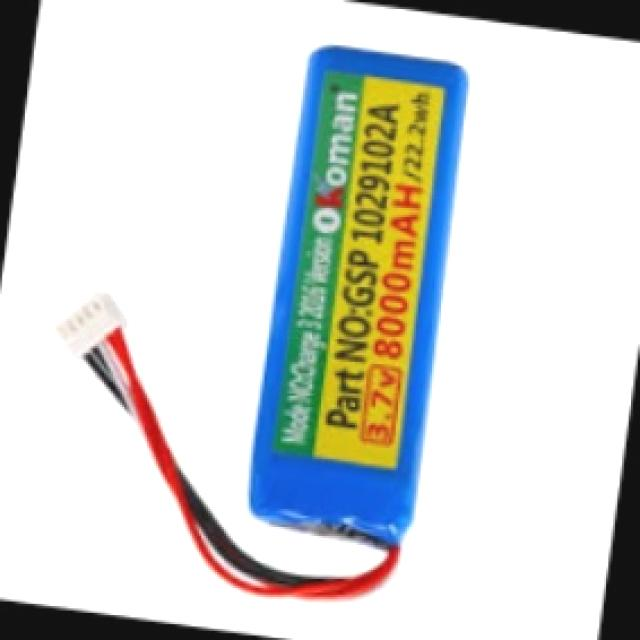elektronik: (250, 56, 466, 544)
